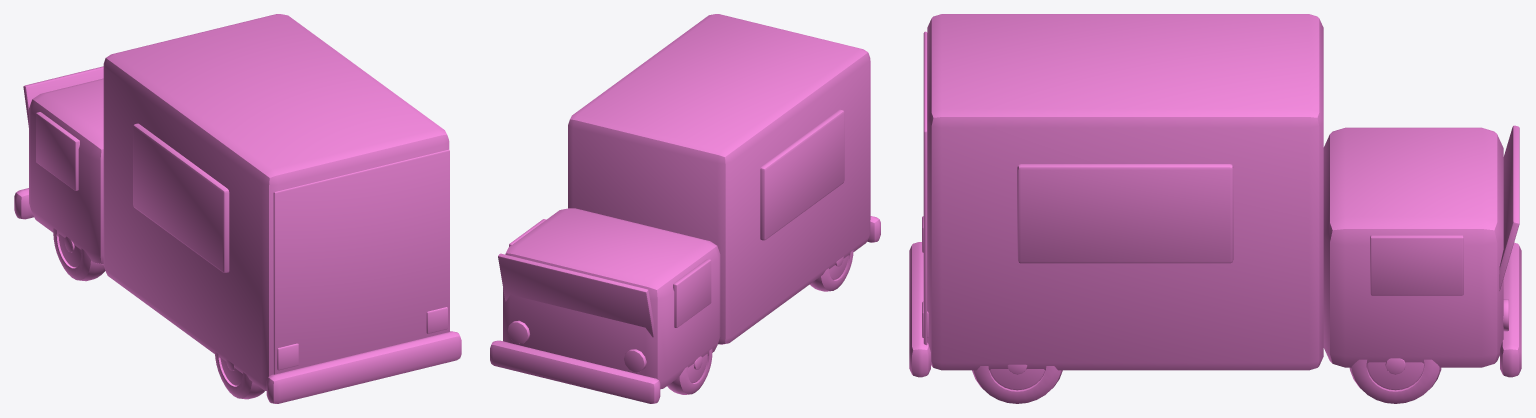
The model's file is Traffic_Van.fbx.
3 views of the same model, side by side, from view 1: azimuth 30°, elevation 25°; view 2: azimuth 150°, elevation 25°; view 3: azimuth 270°, elevation 25° (orthographic). The views are drawn at different scales.
Parts seen in each view (by area): view 1: Paint, Body; view 2: Paint, Body; view 3: Paint, Body.
Boxes of the visible parts, left/top/right/bottom form: Paint: left=29, top=14, right=449, bottom=390; Body: left=14, top=66, right=461, bottom=403; Paint: left=503, top=14, right=870, bottom=389; Body: left=490, top=61, right=880, bottom=403; Paint: left=927, top=14, right=1503, bottom=370; Body: left=909, top=31, right=1521, bottom=403.
Size of the model in its own units: 7.4 by 9 by 17.
Materials: 1 (1 with a texture image).
